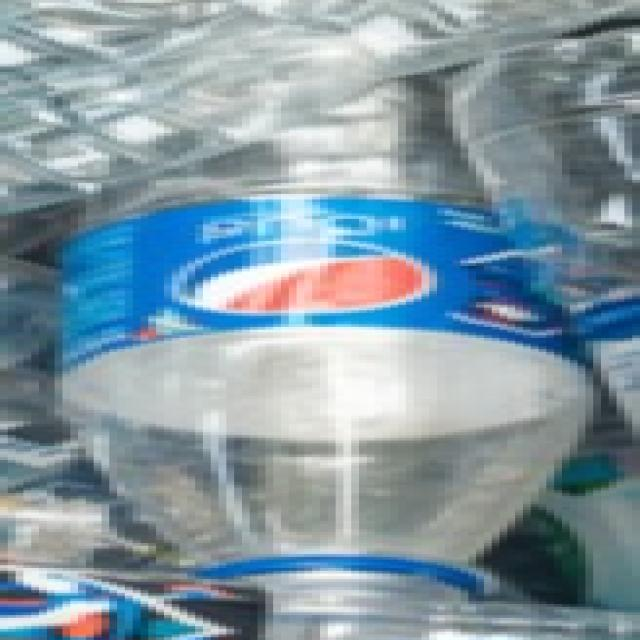plastic bottle: (45, 0, 640, 599)
